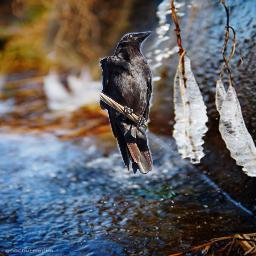Crow: (99, 30, 154, 174)
